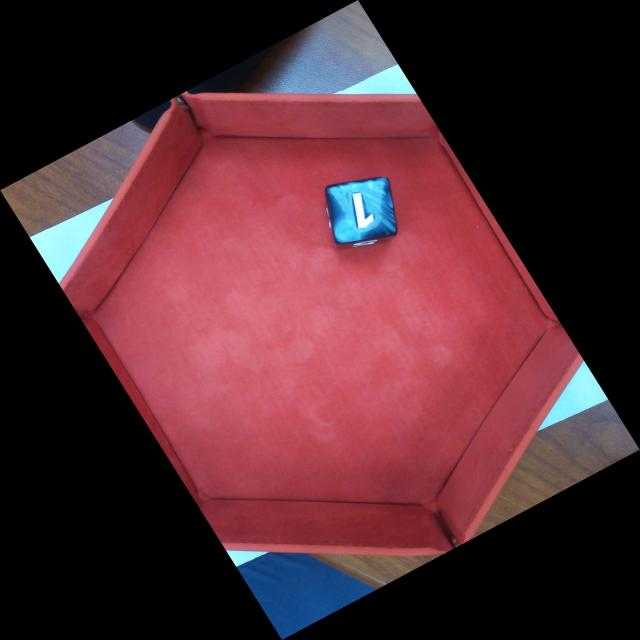dice: (324, 176, 399, 245)
